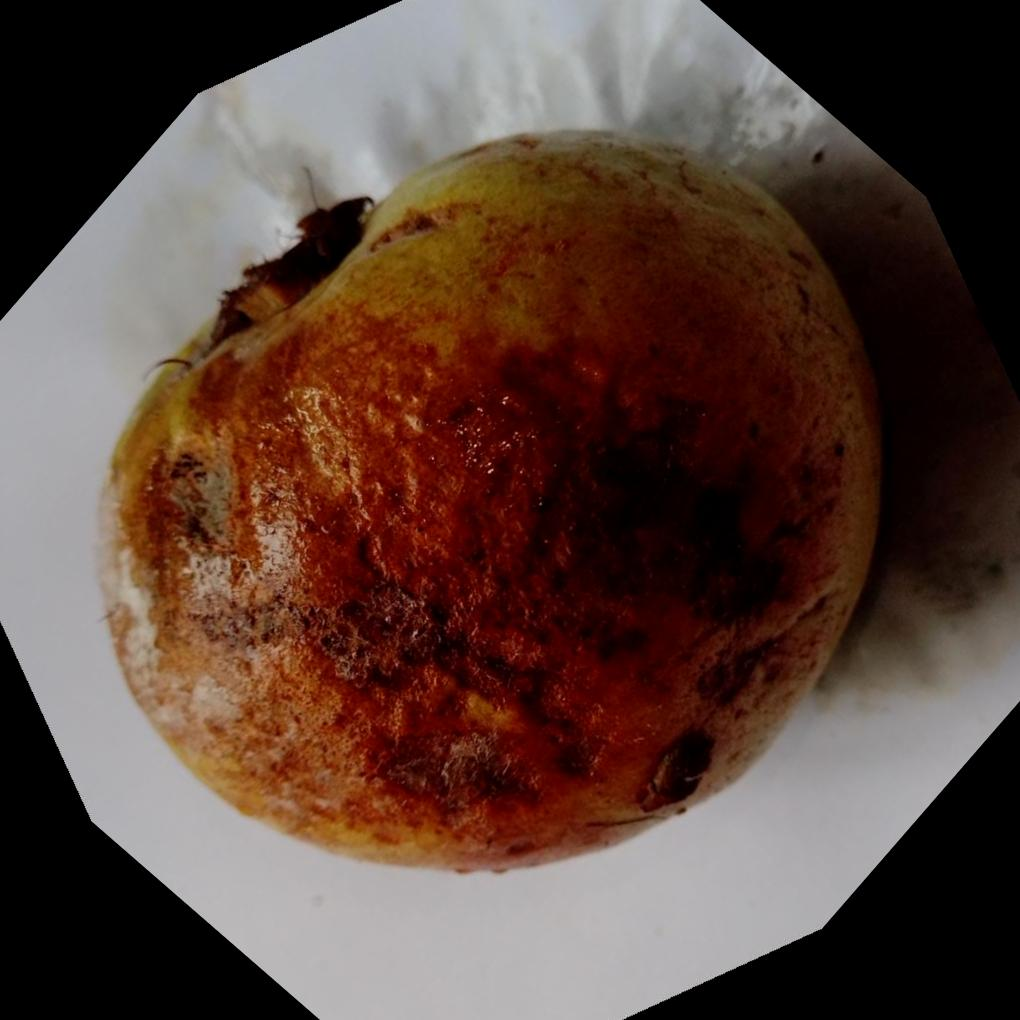FreshOrange: (95, 125, 890, 873)
